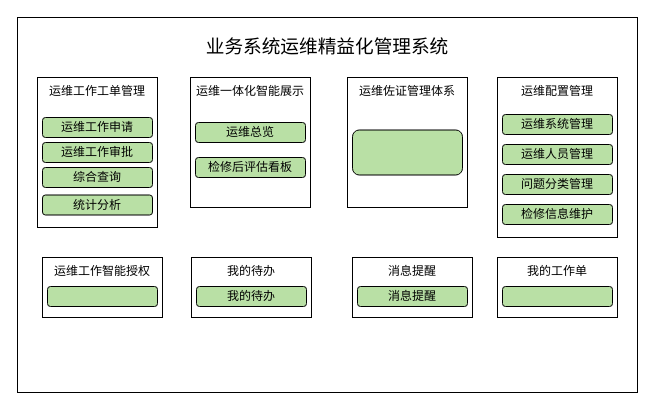
This 655x410 diagram has some shape labels left out. The centre of each missing label's shape, as x and y in pixels:
"我的工单" goes at [557,296].
"脚本管理" goes at [102,296].
"运维资料佐证管理功能" goes at [407,152].
